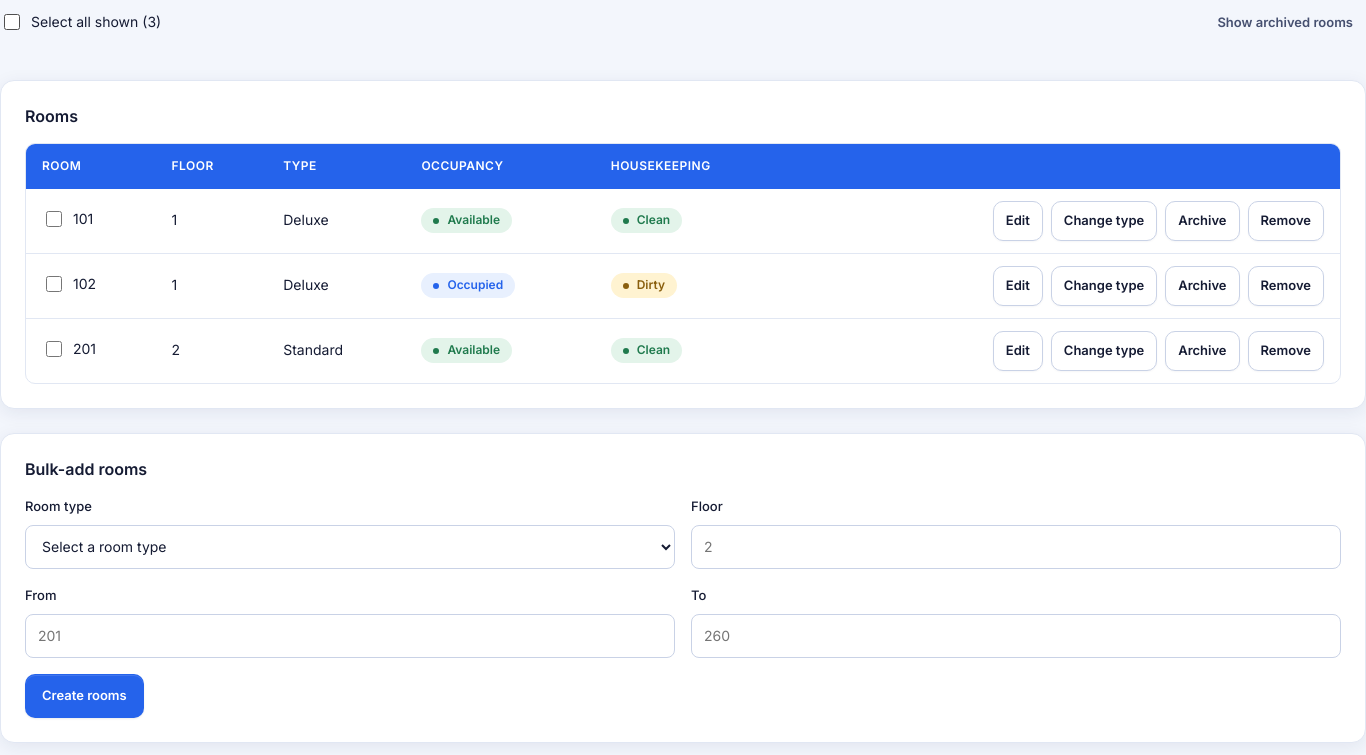
<RoomsTab> › managing rooms after creation › remove › a room nothing references is deleted after a confirm with a reason
expect the text "101" is shown: met, box [42, 208, 93, 230]
Click the button "Remove" in the row of "201" at (1286, 351), box [1248, 331, 1324, 371]
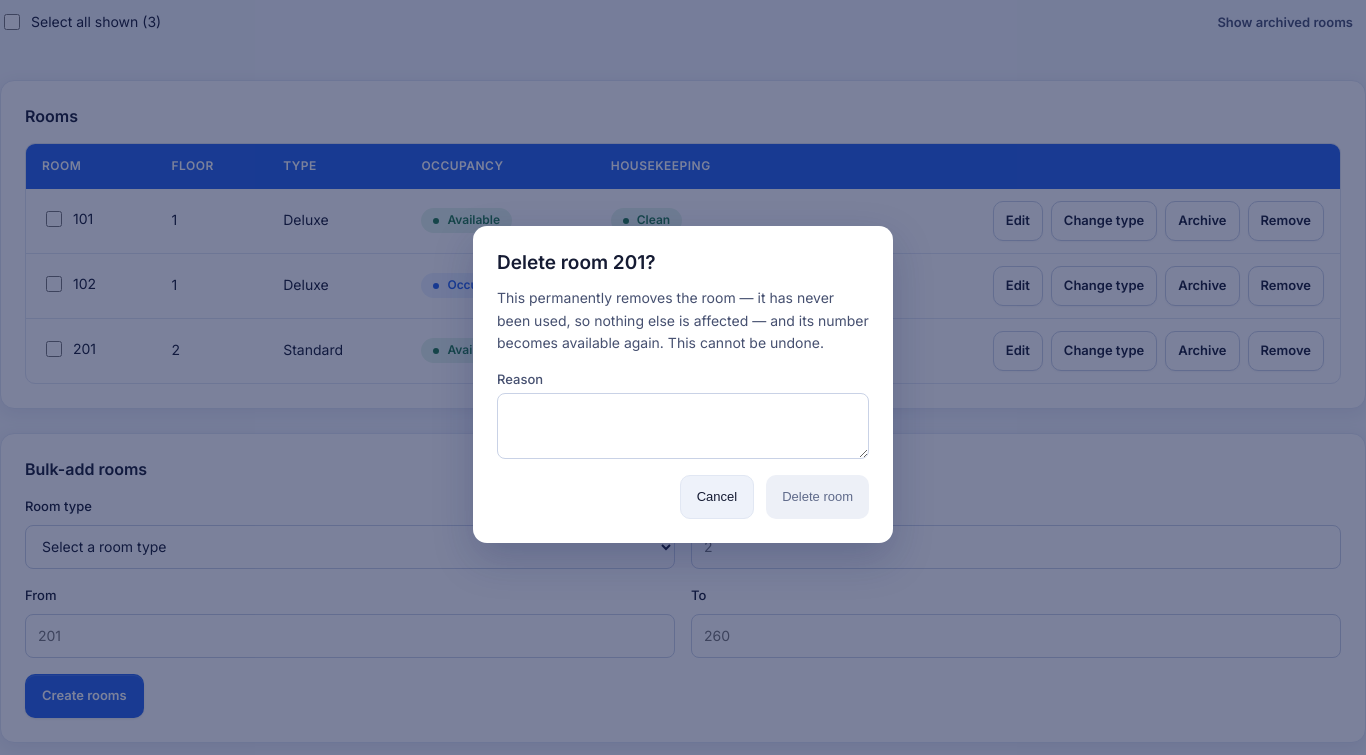
expect the dialog shows "Delete room 201?": met, box [497, 250, 656, 274]
expect the dialog shows "cannot be undone": met, box [497, 289, 869, 351]
Type "created by mistake" into the text box labelled "Reason" at (683, 426), box [497, 392, 869, 458]
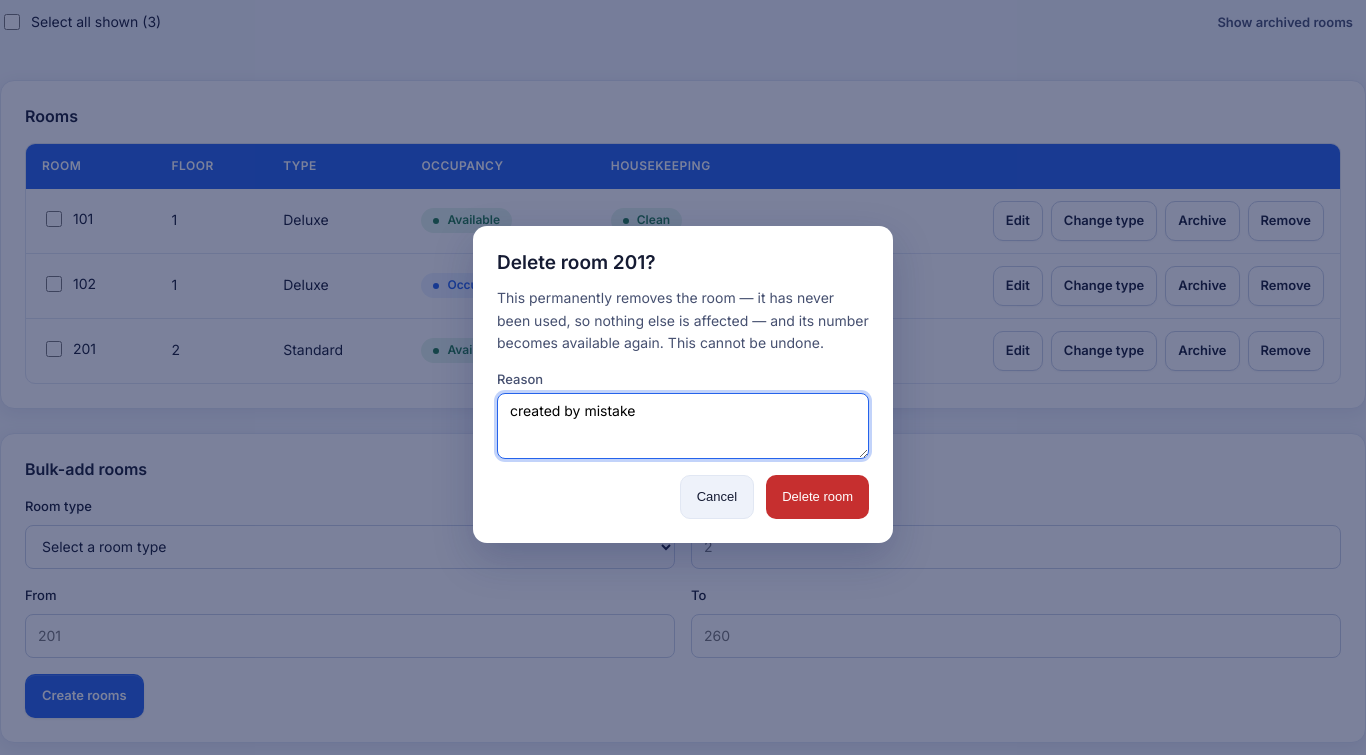
Click the button "Delete room" at (818, 496), box [766, 474, 869, 518]
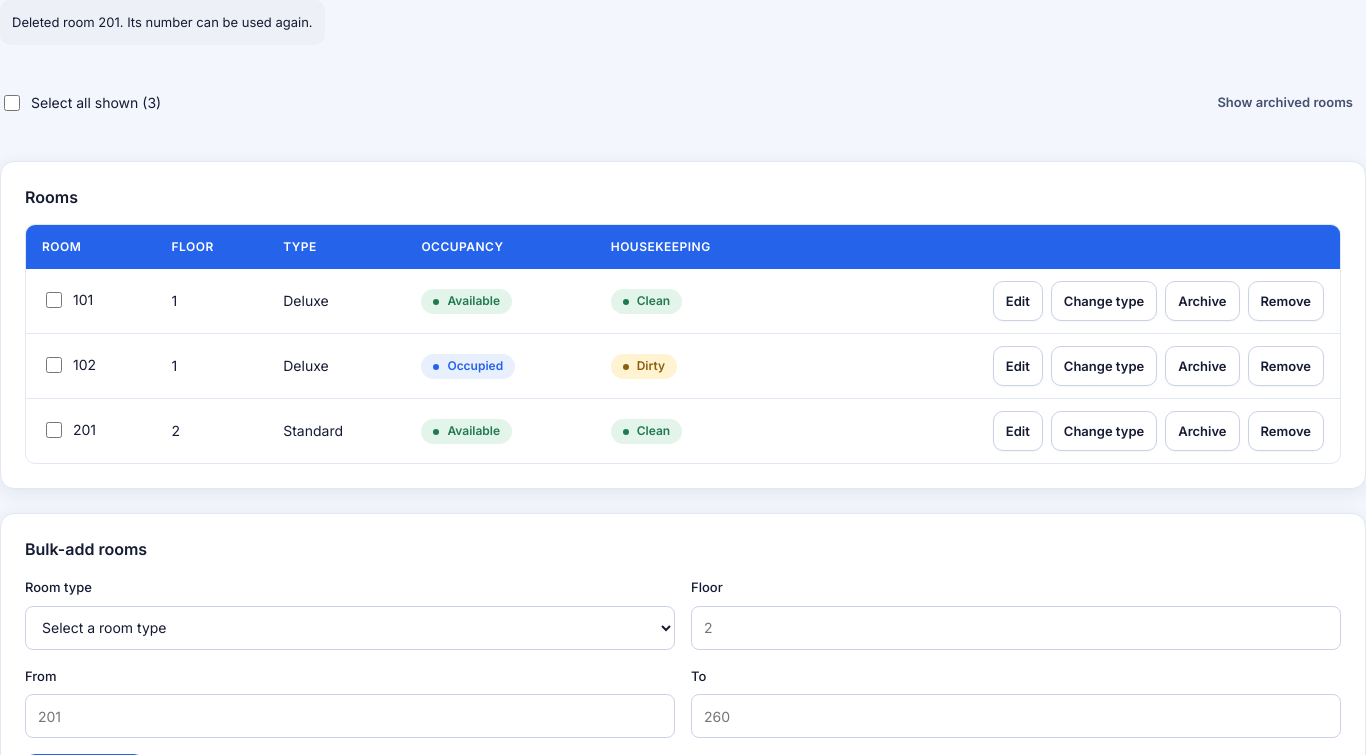
expect the message reads "Deleted room 201. Its number can be used again.": met, box [12, 14, 313, 30]
